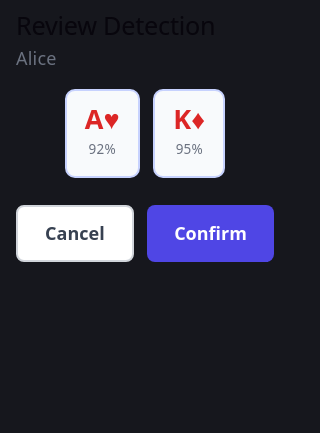
Test: DetectionReview top-N alternatives › shows alternatives panel when tapping a card that has alternatives
Note: Click on the first card (which has alternatives)
Click the element with test id "^detection-card-" at (102, 134), box x1=65 y1=89 x2=140 y2=178
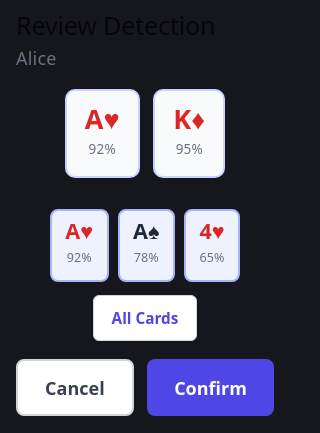
Result: the element with test id "alternatives-panel" is shown at x1=50 y1=209 x2=240 y2=341
